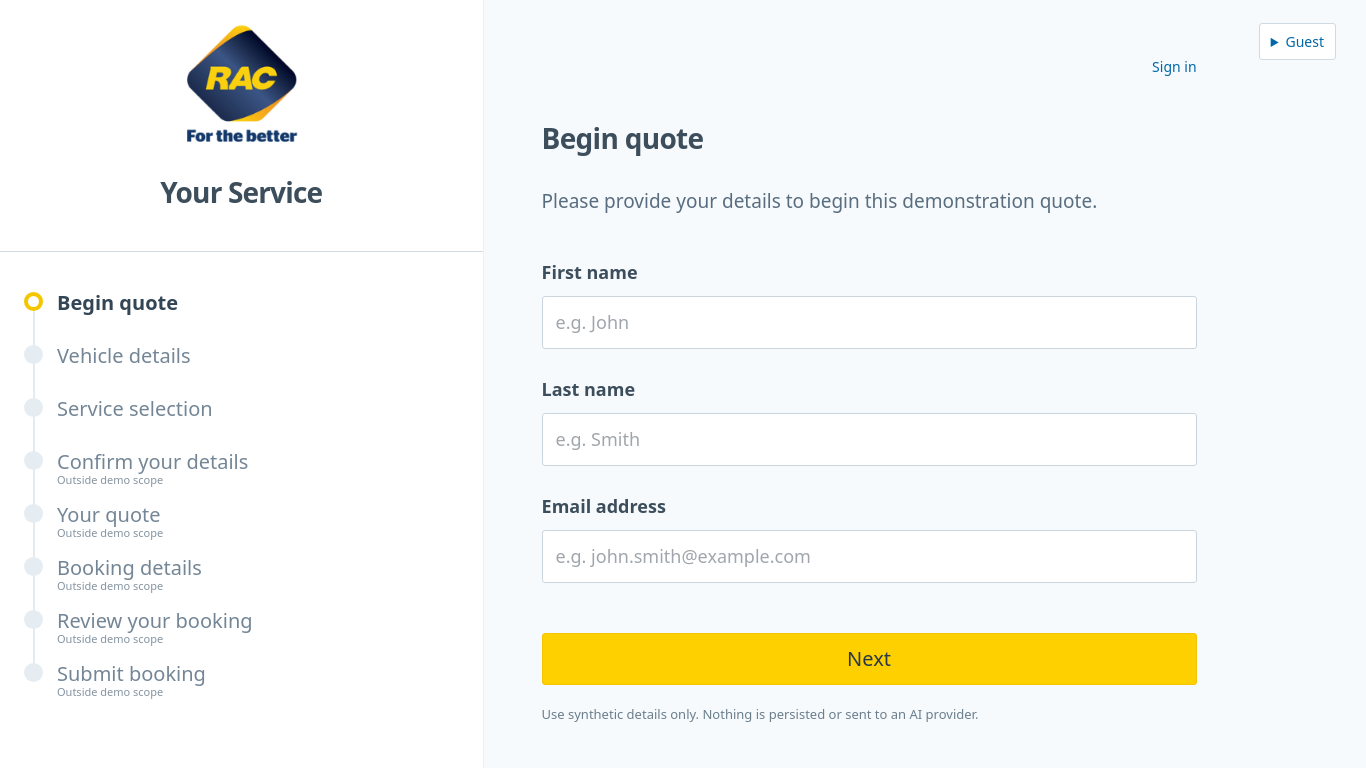
booking journey › lets a guest use the existing booking without signing in
Expected: the heading "Guest" is shown, [1259,23,1336,60]
Type "Demo" into the field labelled "First name" at (869, 323), box [542,296,1197,349]
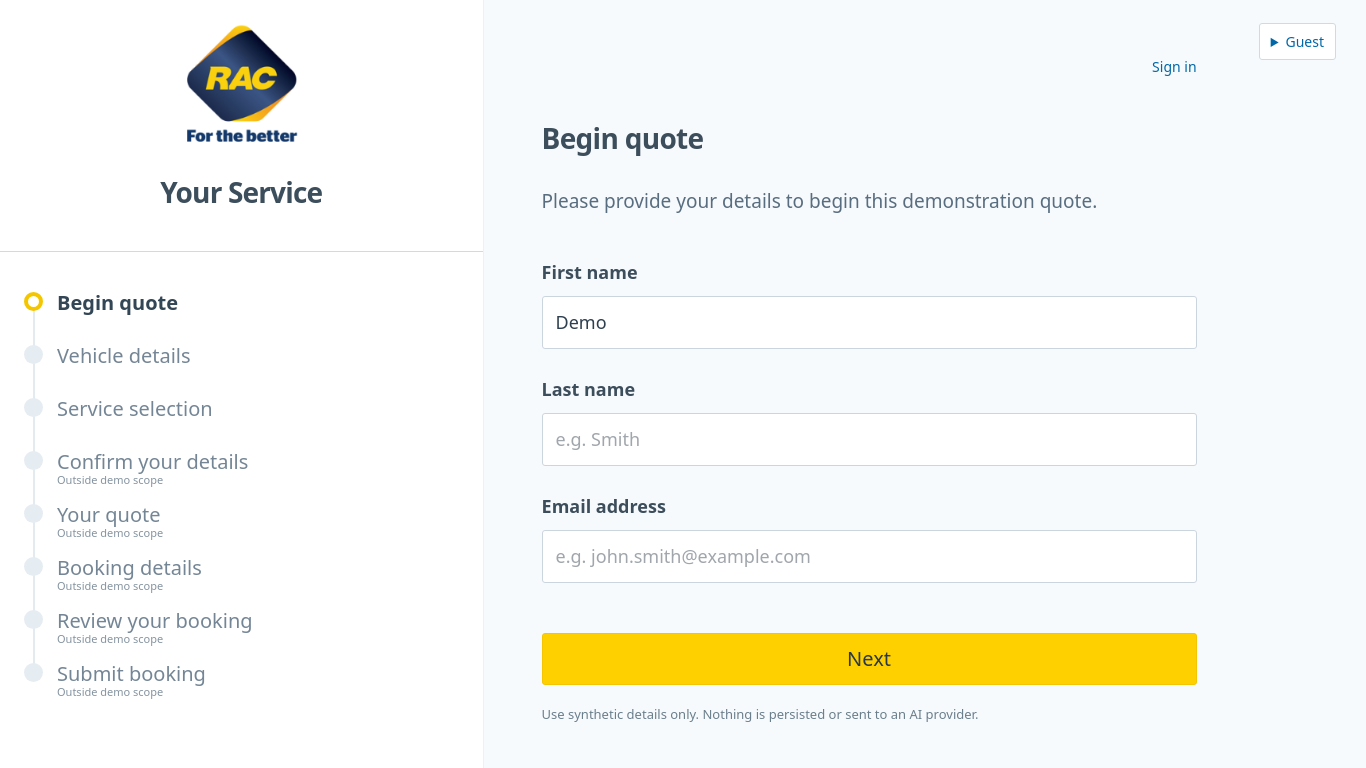
Type "Guest" into the field labelled "Last name" at (869, 440), box [542,413,1197,466]
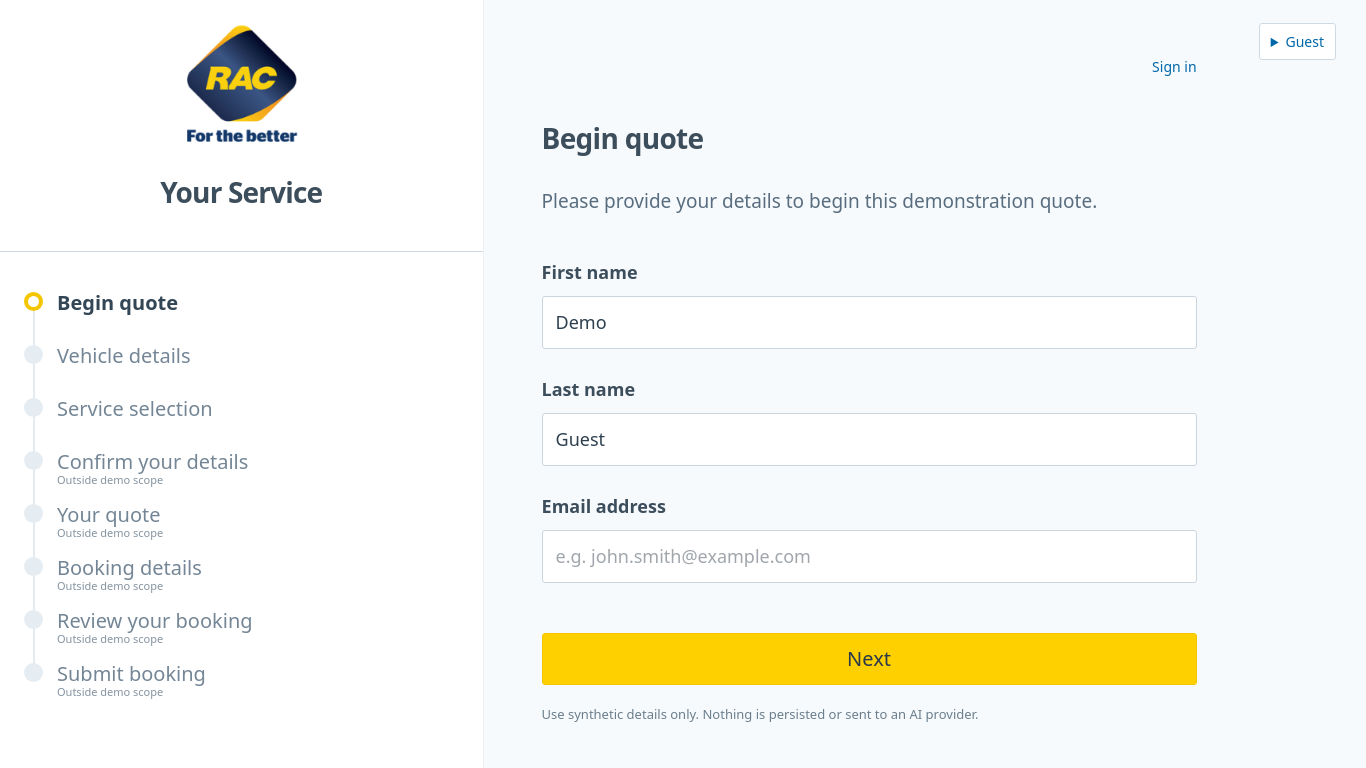
Type "guest@example.invalid" into the field labelled "Email address" at (869, 557), box [542,530,1197,583]
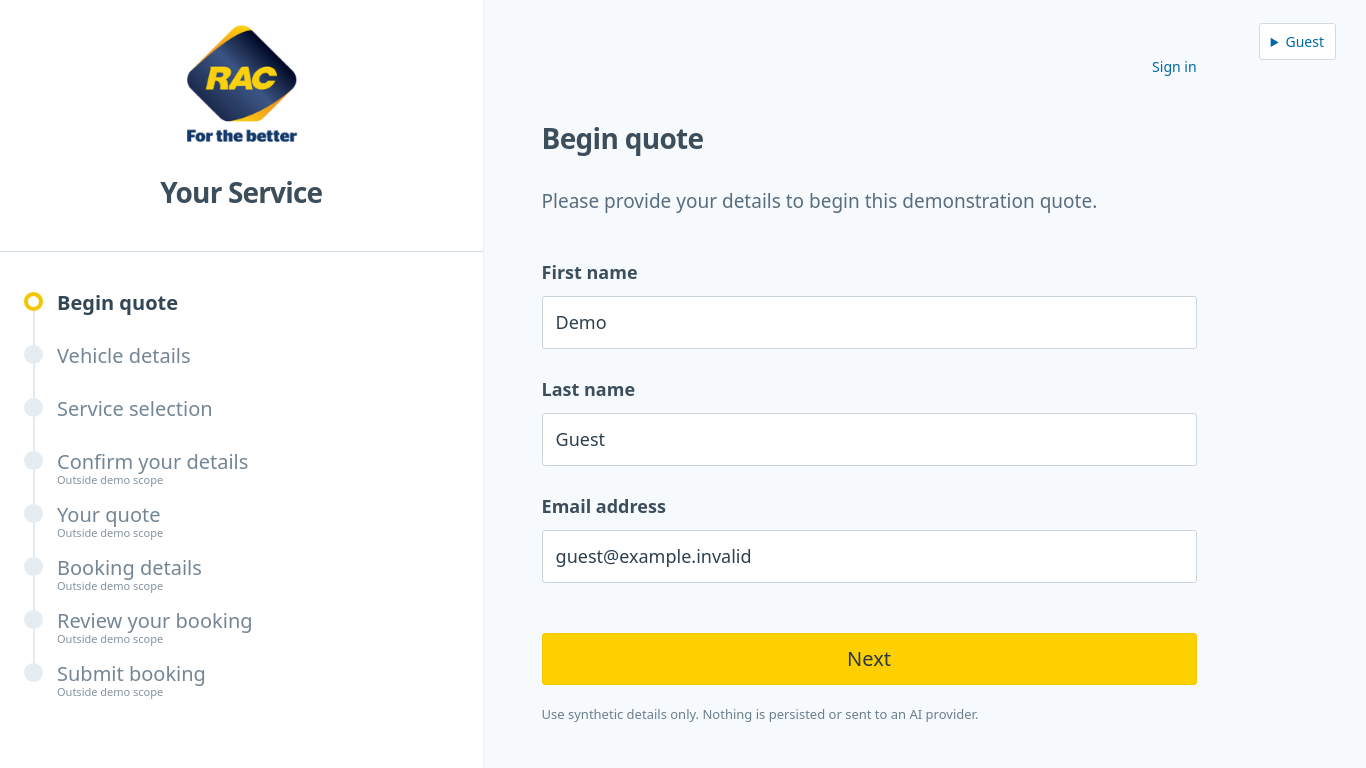
Click the button with aria-label "Next: vehicle details" at (869, 659), box [542,633,1197,685]
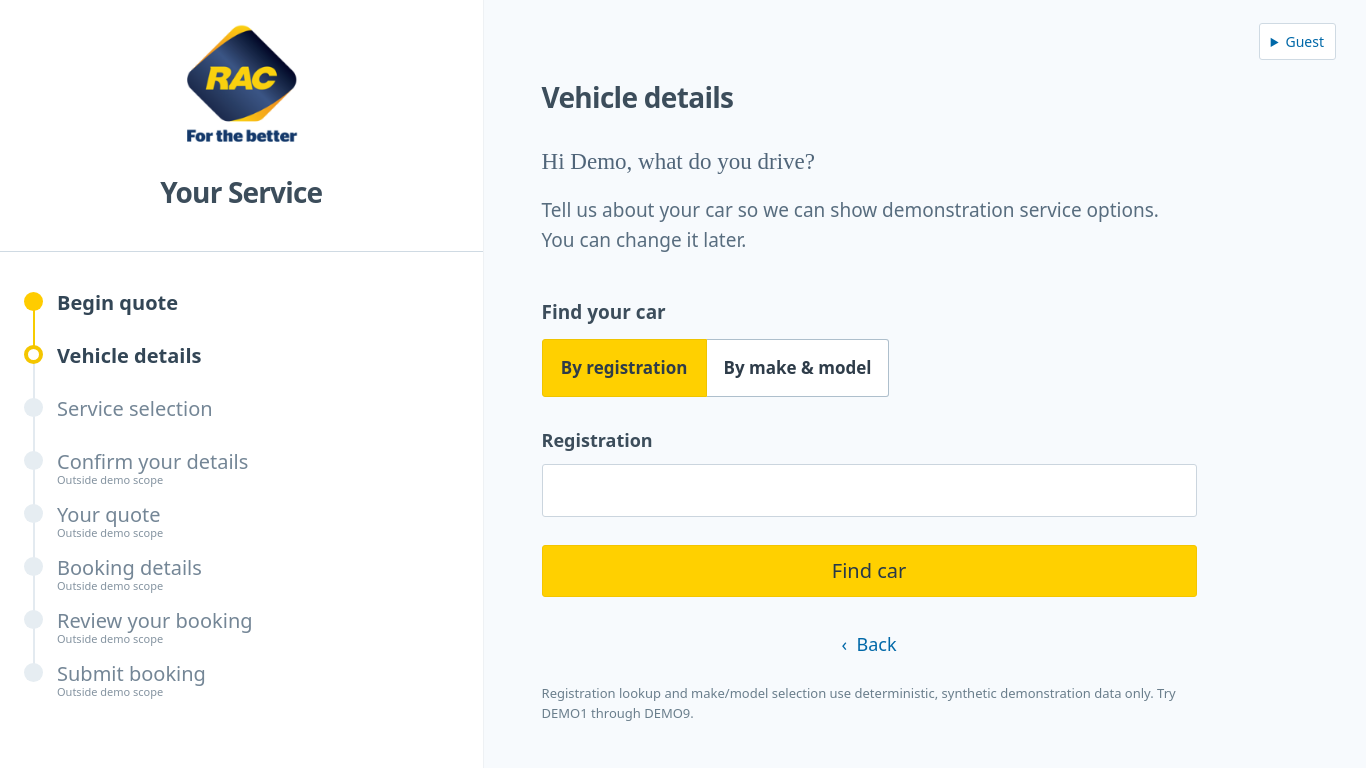
Now the field labelled "Registration" is shown, box [542,464,1197,517]
